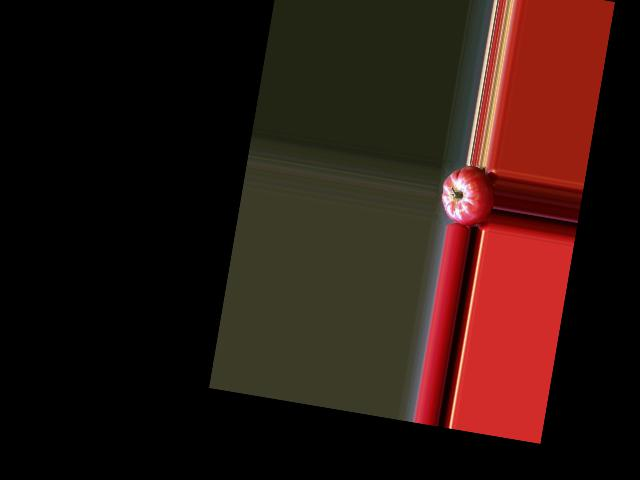tomato: (437, 161, 499, 229)
